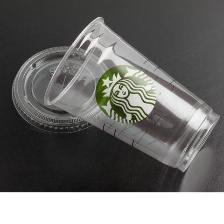glass: (40, 11, 223, 176)
